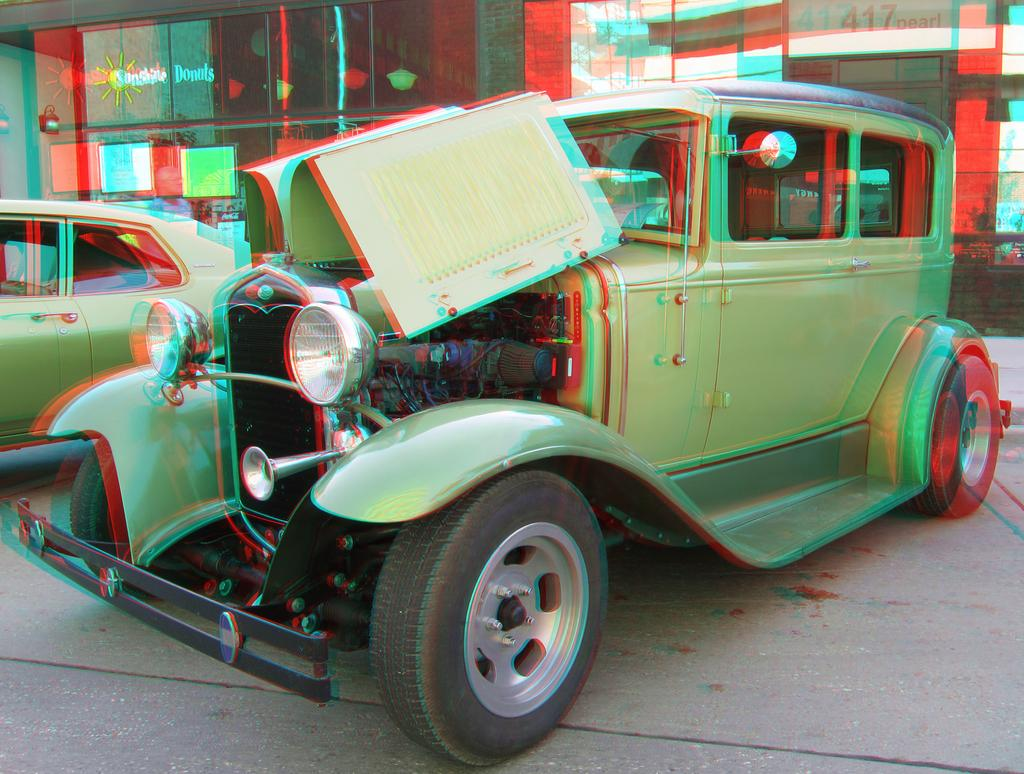Car: (36, 64, 977, 770), (0, 202, 259, 452)
